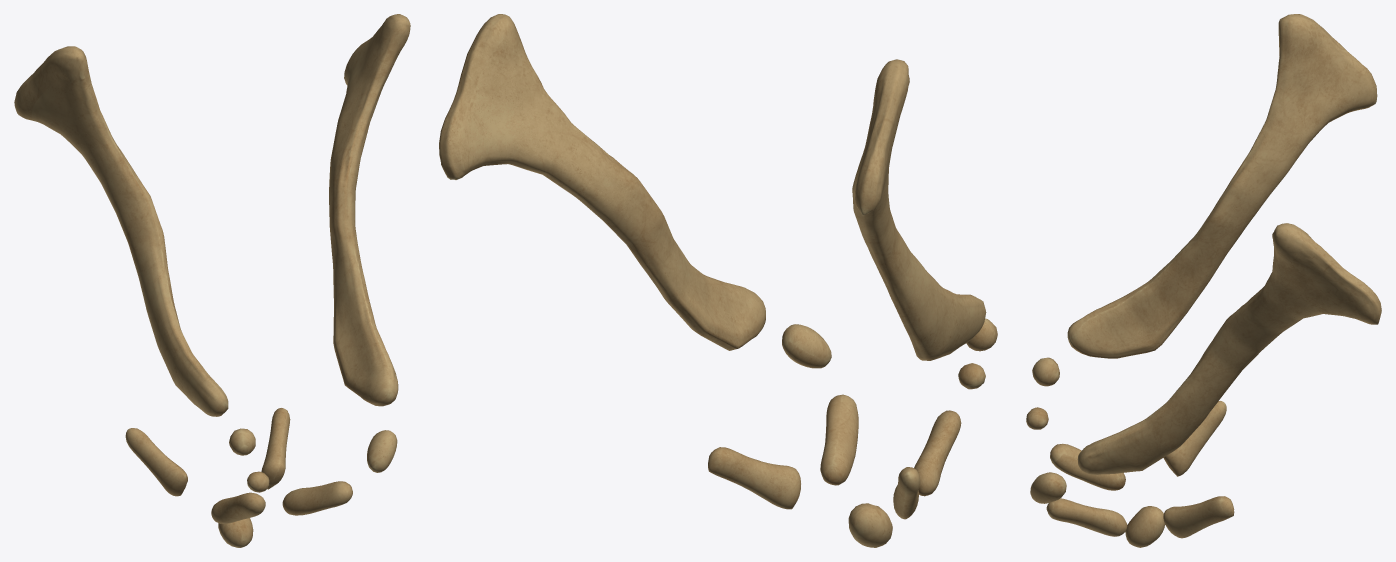
Rendered from Mandible Bits.glb.
3 renders of one model, left to right at view 1: azimuth 30°, elevation 25°; view 2: azimuth 150°, elevation 25°; view 3: azimuth 270°, elevation 25°, orthographic. The views are drawn at different scales.
Parts seen in each view (by area): view 1: ZBrush_defualt_group, Group3, Group1, Group2; view 2: ZBrush_defualt_group, Group3, Group1; view 3: ZBrush_defualt_group, Group3, Group1, Group2.
Boxes of the visible parts, x1,y1,x2,y2 form: ZBrush_defualt_group: [14, 14, 410, 547]; Group3: [282, 481, 352, 515]; Group1: [367, 430, 397, 472]; Group2: [229, 428, 255, 455]; ZBrush_defualt_group: [439, 14, 986, 547]; Group3: [820, 394, 858, 485]; Group1: [782, 324, 831, 368]; ZBrush_defualt_group: [1026, 14, 1381, 547]; Group3: [1046, 498, 1127, 536]; Group1: [1030, 472, 1066, 503]; Group2: [1032, 357, 1059, 386].
Size of the model in its own units: 77.14 by 96.64 by 64.31.
Materials: 1 (1 with a texture image).
